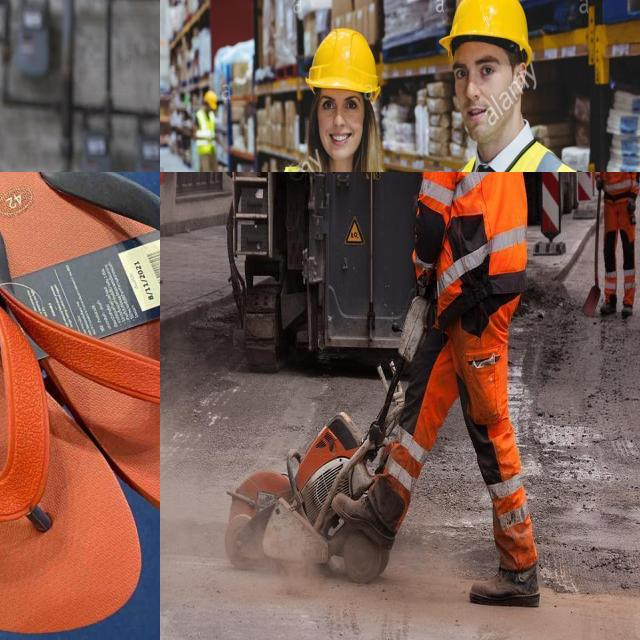No_Glasses: (450, 54, 504, 89), (318, 90, 364, 116)
Sandals: (0, 172, 160, 640)
face_nomask: (450, 44, 519, 142), (316, 88, 368, 165)
head_helmet: (292, 18, 392, 97), (439, 0, 535, 69), (204, 89, 220, 107)
person: (332, 172, 539, 608), (411, 0, 619, 172), (266, 8, 424, 172), (592, 172, 637, 318), (192, 87, 223, 172)
shoes: (327, 485, 401, 552), (466, 560, 544, 612), (598, 296, 619, 320), (618, 298, 634, 322)
vest: (420, 172, 528, 322), (193, 110, 226, 158), (590, 172, 640, 197)
